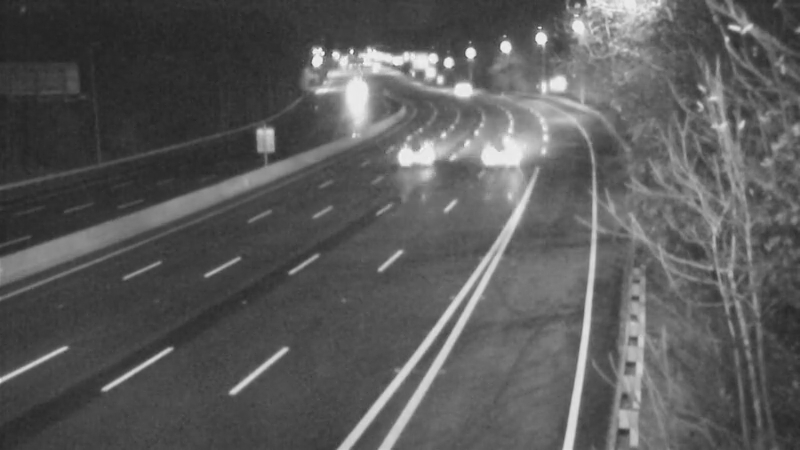vehicle: (458, 114, 538, 194), (380, 113, 460, 193), (435, 65, 485, 115), (327, 71, 377, 121)
